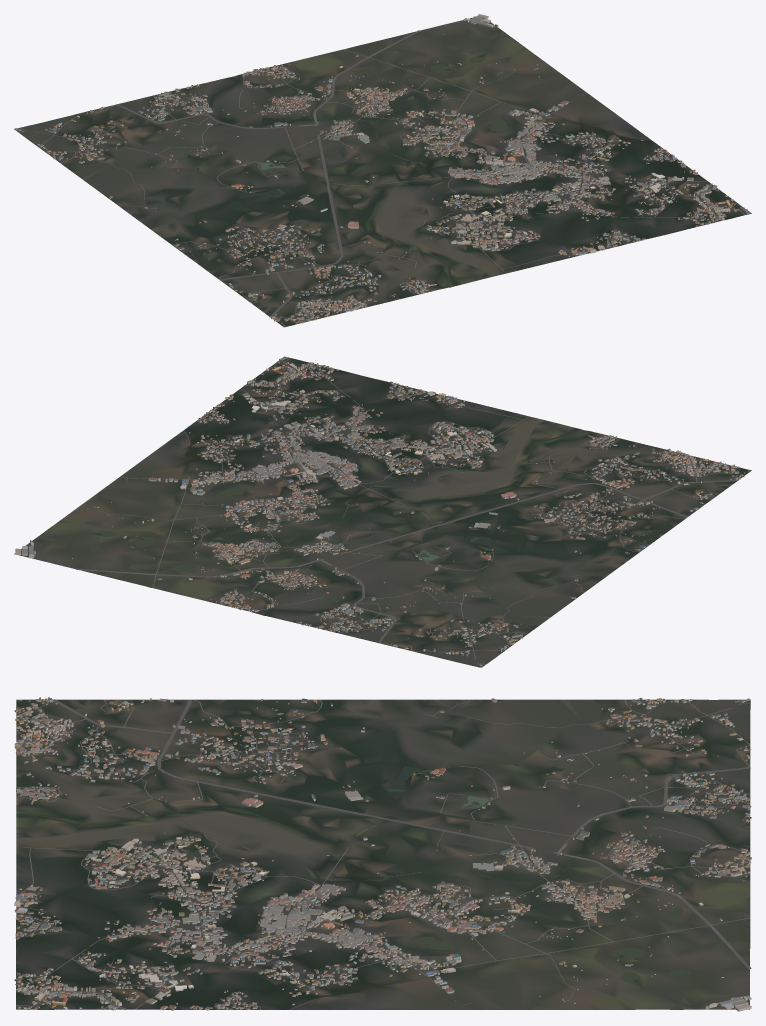
The picture shows the model from 3 angles, top to bottom: view 1: azimuth 30°, elevation 25°; view 2: azimuth 150°, elevation 25°; view 3: azimuth 270°, elevation 25°; orthographic projection. The views are drawn at different scales.
Parts seen in each view (by area): view 1: ground, buildings, roads, water; view 2: ground, buildings, roads, water; view 3: ground, buildings, roads, water.
Part boxes in pixels (x1,y1,x2,y2): ground: [14, 18, 751, 327]; buildings: [14, 14, 750, 325]; roads: [18, 30, 744, 322]; water: [185, 32, 742, 286]; ground: [14, 357, 751, 667]; buildings: [15, 356, 749, 667]; roads: [75, 358, 738, 666]; water: [40, 361, 584, 615]; ground: [16, 699, 750, 1009]; buildings: [14, 697, 751, 1011]; roads: [15, 699, 751, 1009]; water: [16, 755, 750, 1009].
Size of the model in its own units: 2823 by 25.33 by 2819.
